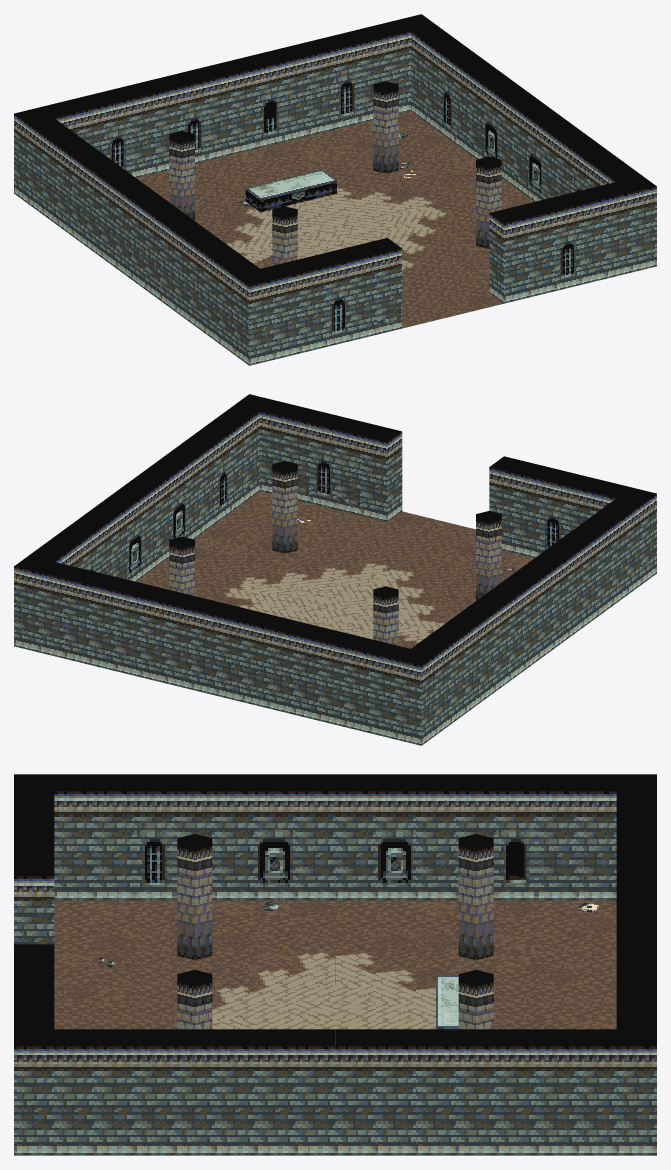
File: room-s-1-col.gltf
The picture shows the model from 3 angles, top to bottom: view 1: azimuth 30°, elevation 25°; view 2: azimuth 150°, elevation 25°; view 3: azimuth 270°, elevation 25°; orthographic projection. The views are drawn at different scales.
Visible parts, largest first — view 1: room-s-1-col; view 2: room-s-1-col; view 3: room-s-1-col.
Part boxes in pixels (x1=…): room-s-1-col: x1=14, y1=14, x2=656, y2=365; room-s-1-col: x1=14, y1=394, x2=656, y2=745; room-s-1-col: x1=14, y1=774, x2=656, y2=1155.
Bounding box in the file's own units: 16 × 3 × 16.
Materials: 1 (1 with a texture image).
